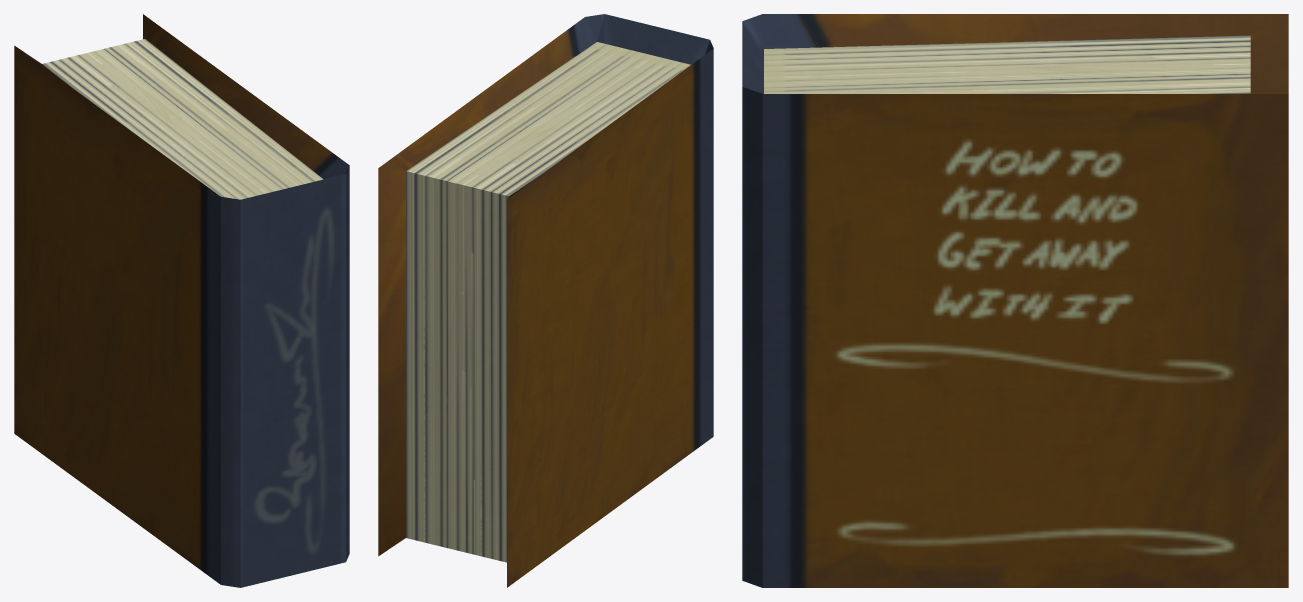
File: e_asset_book_kill.fbx
3 views of the same model, side by side, from view 1: azimuth 30°, elevation 25°; view 2: azimuth 150°, elevation 25°; view 3: azimuth 270°, elevation 25° (orthographic). The views are drawn at different scales.
Parts seen in each view (by area): view 1: pCube126; view 2: pCube126; view 3: pCube126.
Part boxes in pixels (x1=…): pCube126: x1=14, y1=14, x2=349, y2=587; pCube126: x1=378, y1=14, x2=713, y2=587; pCube126: x1=742, y1=14, x2=1288, y2=587.
Bounding box in the file's own units: 0.0719 × 0.2072 × 0.2077.
